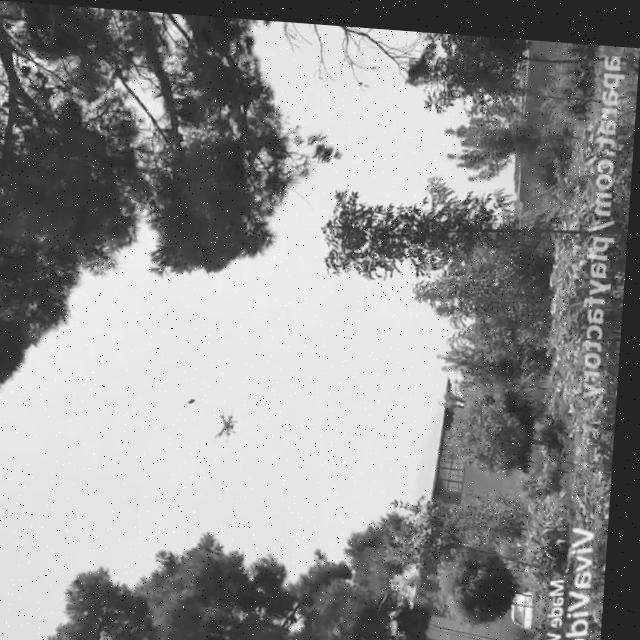drone: (211, 400, 250, 441)
